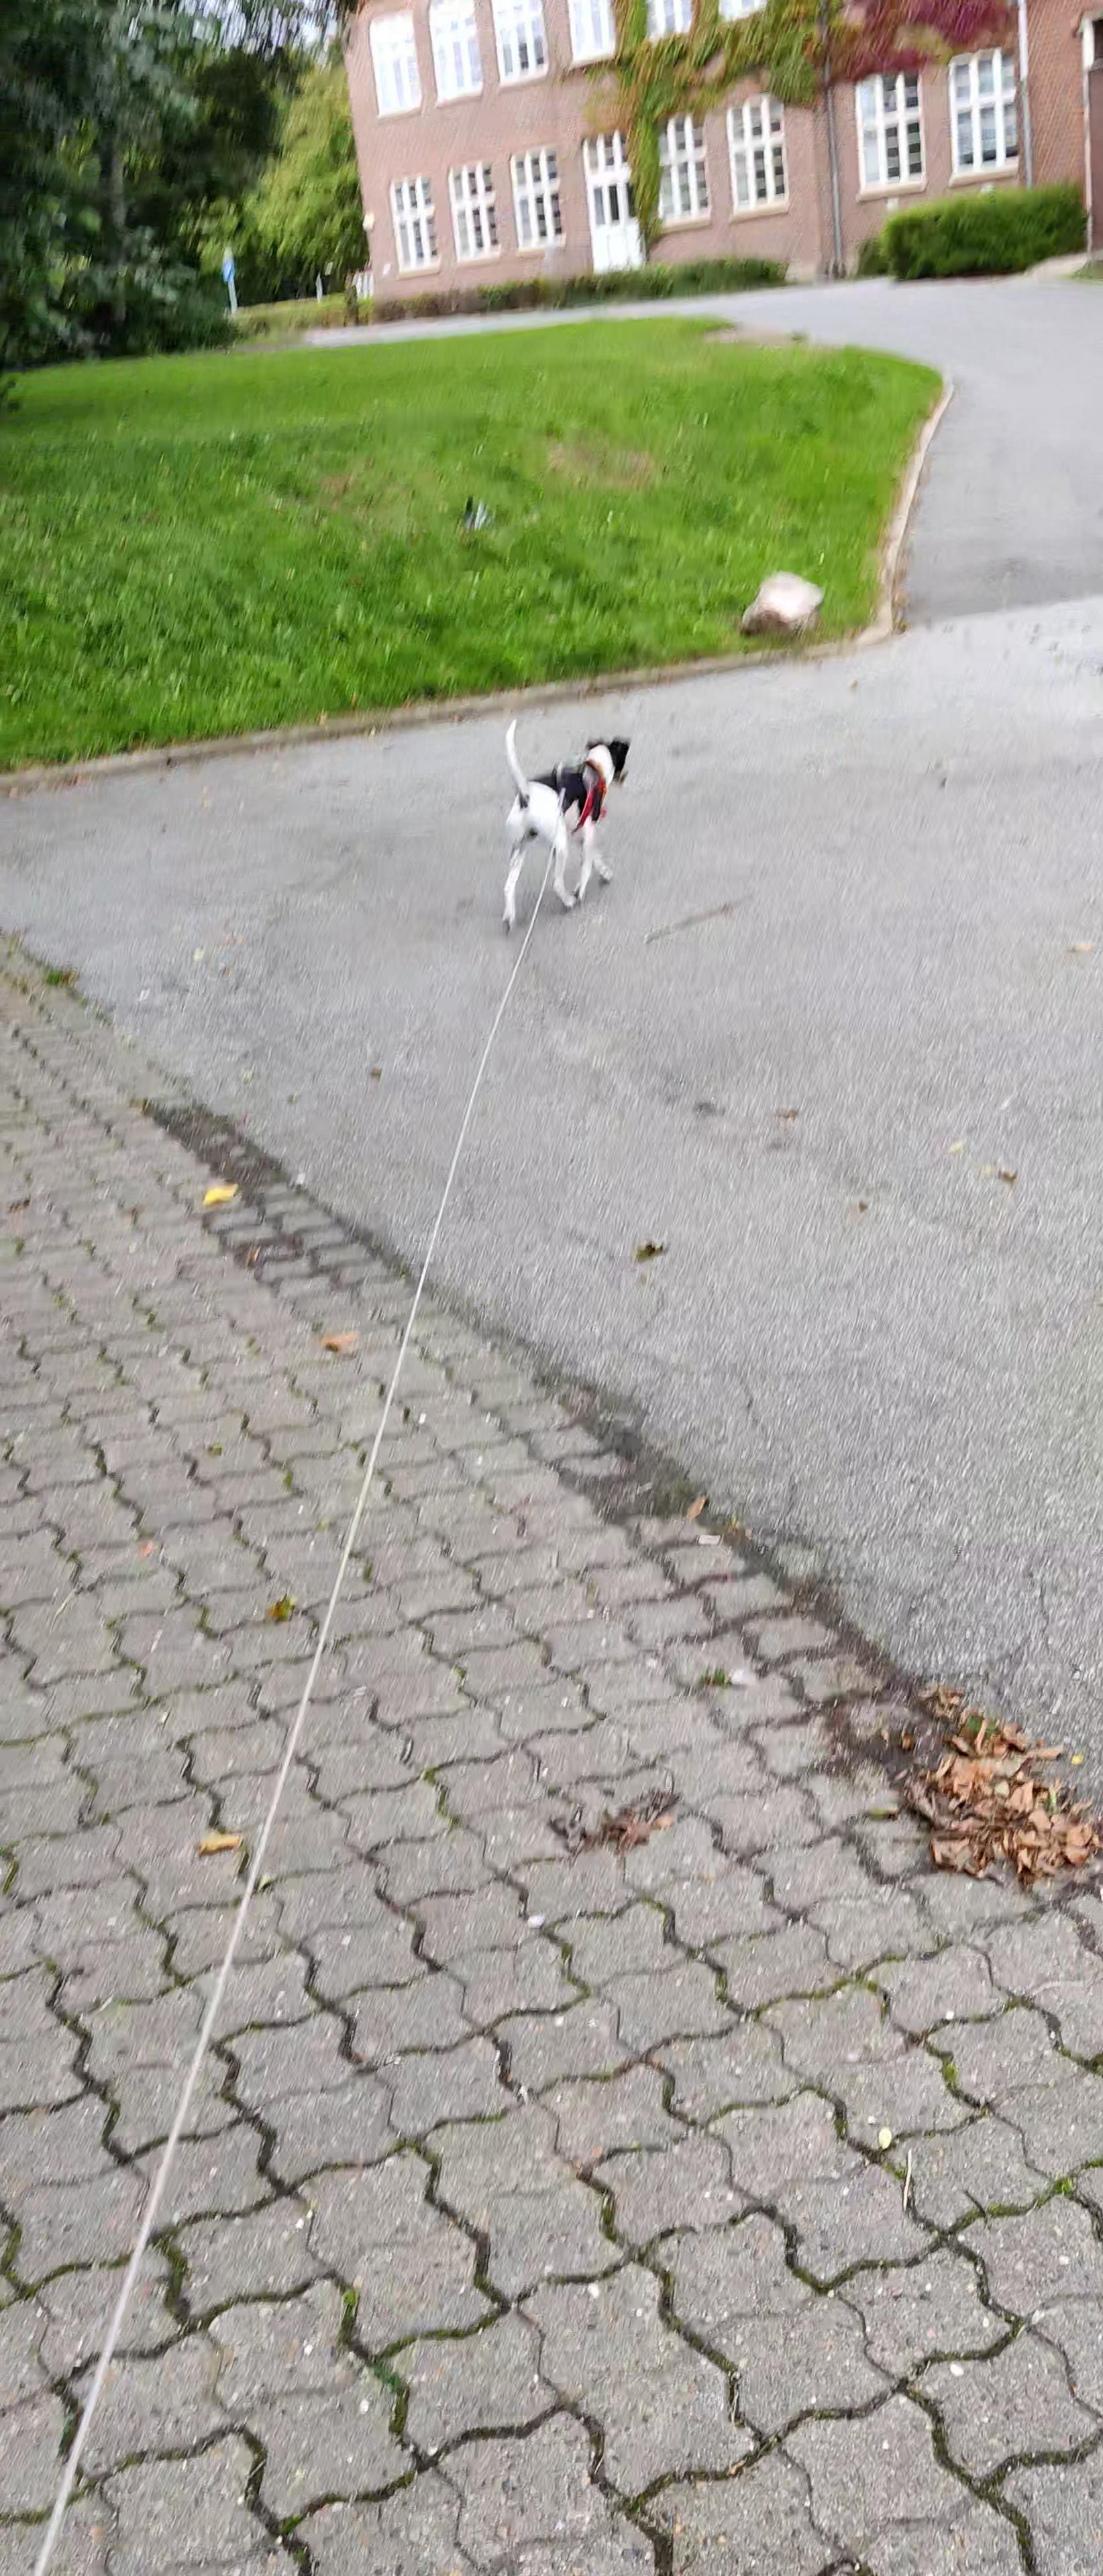Dog: (496, 718, 633, 936)
